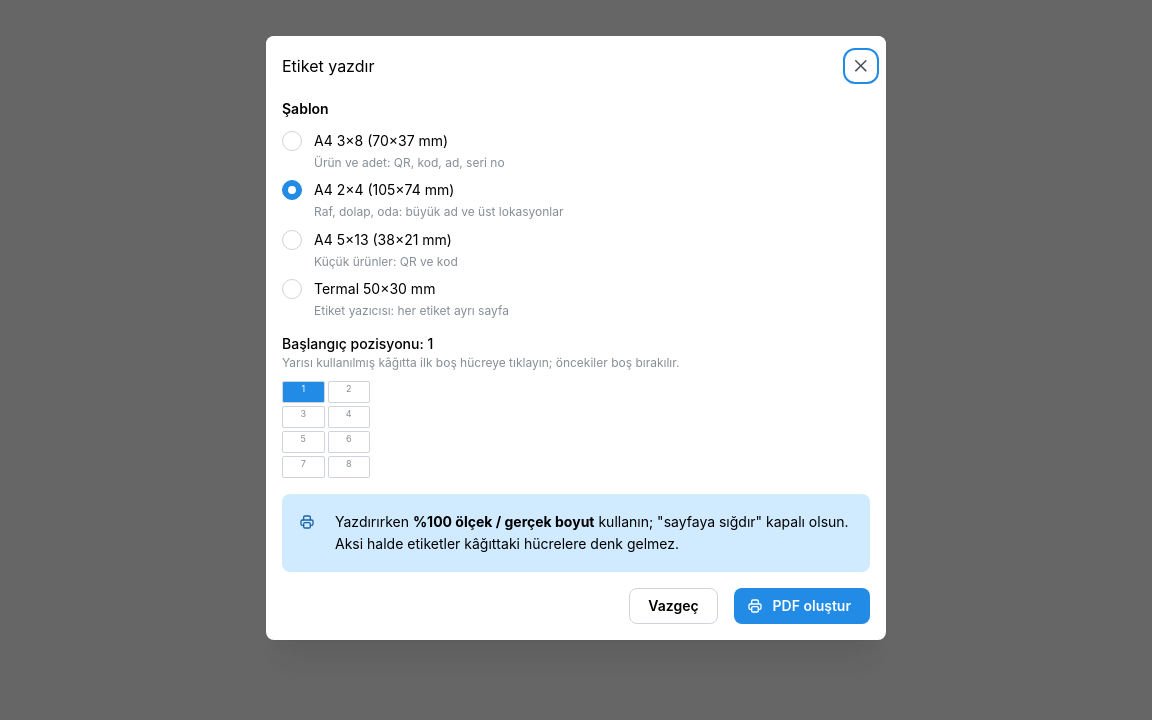
Test: LabelPrintModal › shows the server message and closes the empty tab on failure
Click the button "PDF oluştur". click: [802, 606]
box: [734, 588, 870, 624]
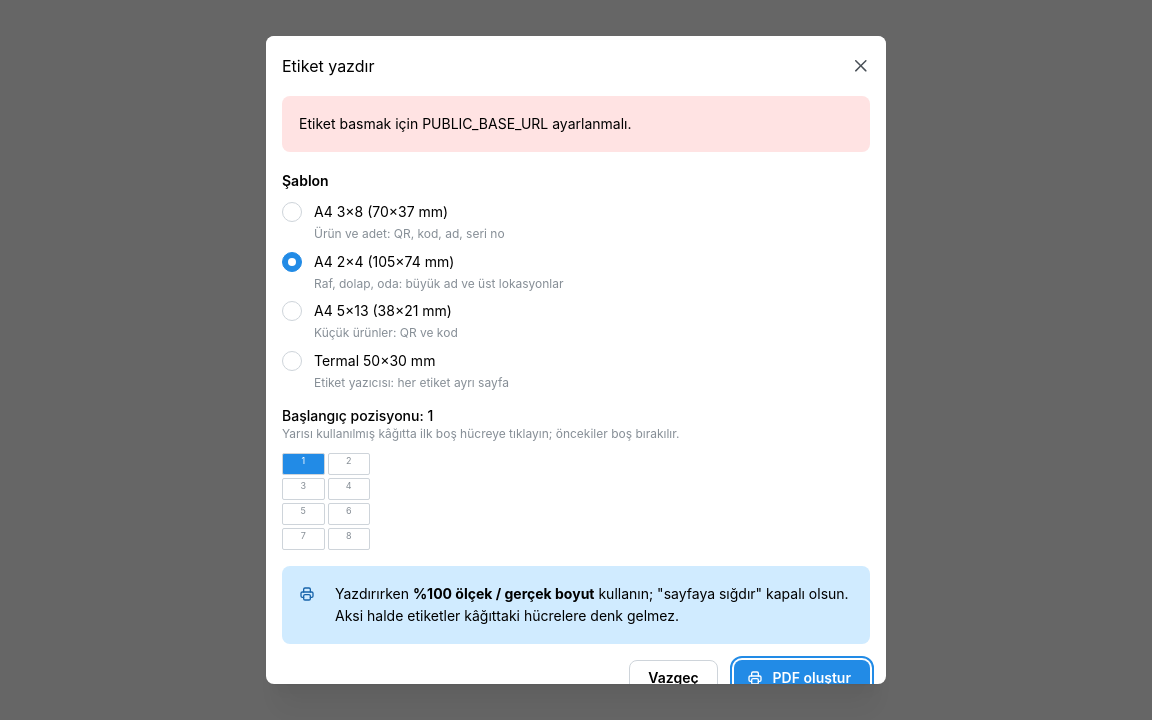
Now the text "Etiket basmak için PUBLIC_BASE_URL ayarlanmalı." is shown, box [299, 115, 632, 132]
